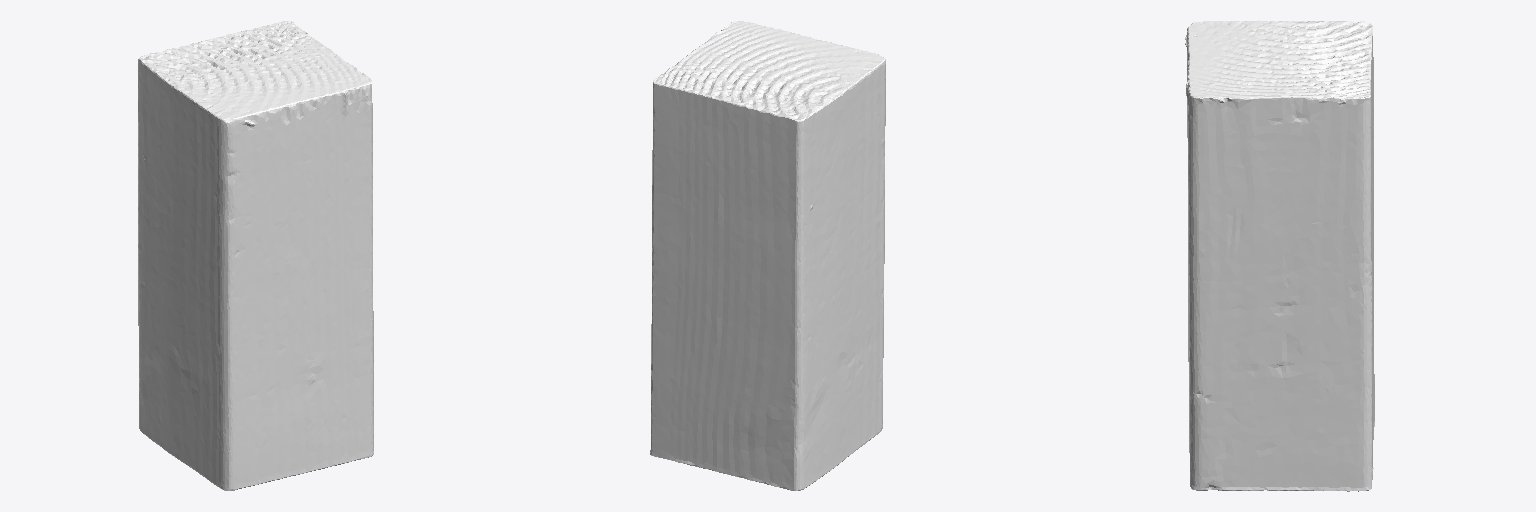
The robot description file, URDF, robot "b_cups":
<robot name="b_cups">
	<link name="base_link">
		<visual>
			<origin xyz="0.026747550267515283 0.05365431597117832 -0.02994142003313046" rpy="0.0 0.0 0.0" />
			<geometry>
				<mesh filename="065-b_cups/google_16k/textured.obj" scale="1 1 1" />
			</geometry>
			<material name="texture">
				<color rgba="1.0 1.0 1.0 1.0" />
			</material>
		</visual>
		<collision>
			<origin xyz="0.026747550267515283 0.05365431597117832 -0.02994142003313046" rpy="0.0 0.0 0.0" />
			<geometry>
				<mesh filename="065-b_cups/google_16k/textured_vhacd.obj" scale="1 1 1" />
			</geometry>
		</collision>
		<inertial>
			<mass value="0.014" />
			<inertia ixx="1e-3" ixy="0.0" ixz="0.0" iyy="1e-3" iyz="0.0" izz="1e-3" />
		</inertial>
	</link>
</robot>

--- Facts derived from the render (not from the file) ---
The picture shows the robot from 3 angles, left to right: view 1: azimuth 30°, elevation 25°; view 2: azimuth 150°, elevation 25°; view 3: azimuth 270°, elevation 25°; orthographic projection.
Robot: b_cups — 1 links, 0 joints (none); root link base_link; default pose: every joint at zero.
Visible links, largest first — view 1: base_link; view 2: base_link; view 3: base_link.
Boxes of the visible links, x1,y1,x2,y2 form: base_link: (138,21,373,490); base_link: (650,21,885,490); base_link: (1185,20,1374,491).
Bounding box of the posed robot: 0.0906 × 0.0899 × 0.206 m (x, y, z).
Meshes: 1 distinct files referenced, 1 mesh visuals loaded (1 OBJ).